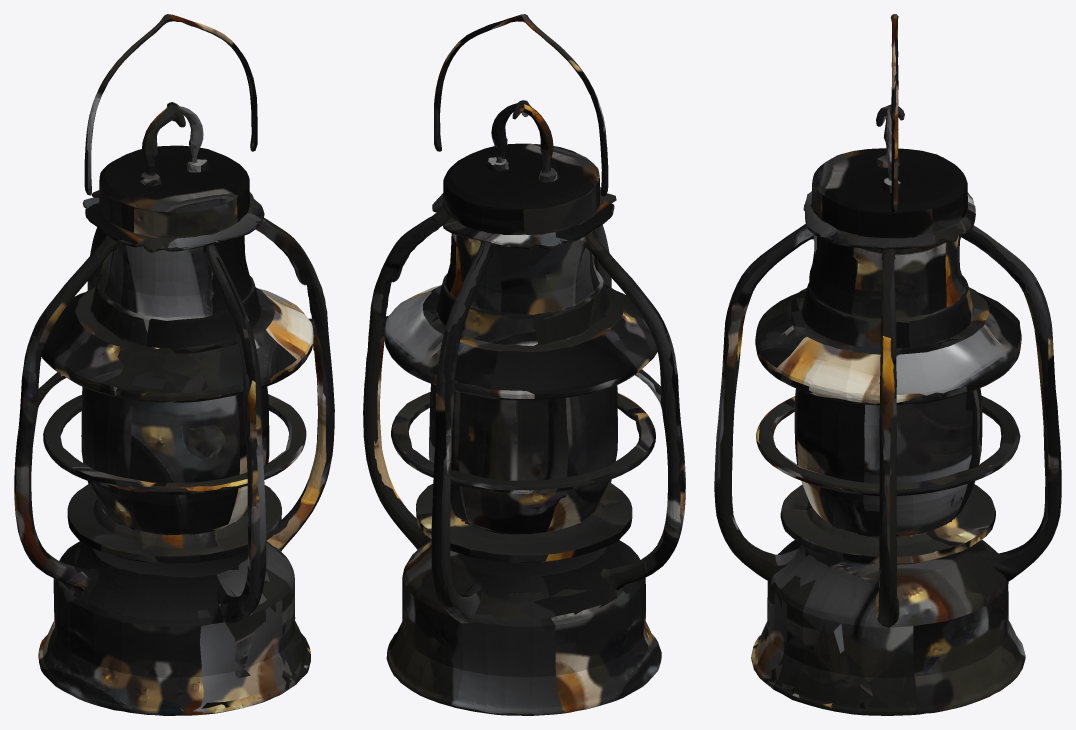
File: lantern.obj
3 renders of one model, left to right at view 1: azimuth 30°, elevation 25°; view 2: azimuth 150°, elevation 25°; view 3: azimuth 270°, elevation 25°, orthographic.
Visible parts, largest first — view 1: obj1; view 2: obj1; view 3: obj1.
Part boxes in pixels (x1,y1,x2,y2): obj1: (14,14,334,715); obj1: (363,14,685,715); obj1: (714,14,1061,715).
Bounding box in the file's own units: 0.5182 × 1 × 0.4901.
